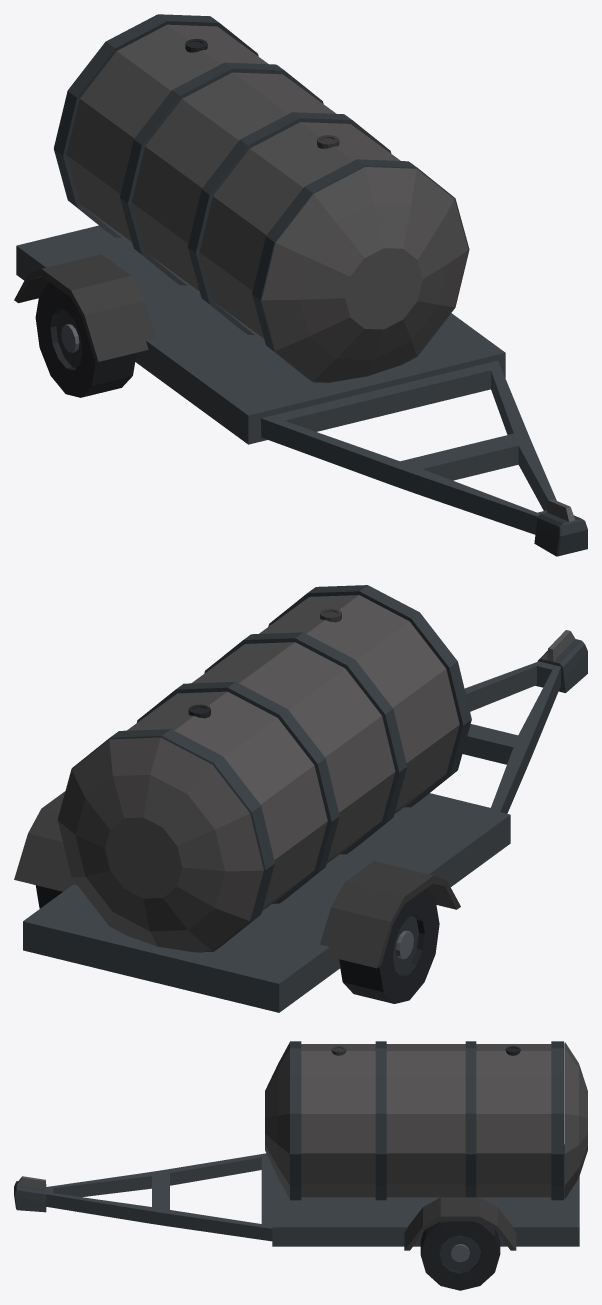
The model's file is TrailerTanker_1.fbx.
3 renders of one model, top to bottom at view 1: azimuth 30°, elevation 25°; view 2: azimuth 150°, elevation 25°; view 3: azimuth 270°, elevation 25°, orthographic. The views are drawn at different scales.
Visible parts, largest first — view 1: TrailerTanker_1, TrailerTankerWhees_1; view 2: TrailerTanker_1, TrailerTankerWhees_1; view 3: TrailerTanker_1, TrailerTankerWhees_1.
Part boxes in pixels (left/top/right/bottom): TrailerTanker_1: left=14, top=14, right=587, bottom=556; TrailerTankerWhees_1: left=35, top=282, right=136, bottom=397; TrailerTanker_1: left=14, top=585, right=587, bottom=1012; TrailerTankerWhees_1: left=35, top=885, right=439, bottom=1003; TrailerTanker_1: left=14, top=1041, right=587, bottom=1250; TrailerTankerWhees_1: left=420, top=1221, right=500, bottom=1290.
Size of the model in its own units: 236 by 174 by 486.
